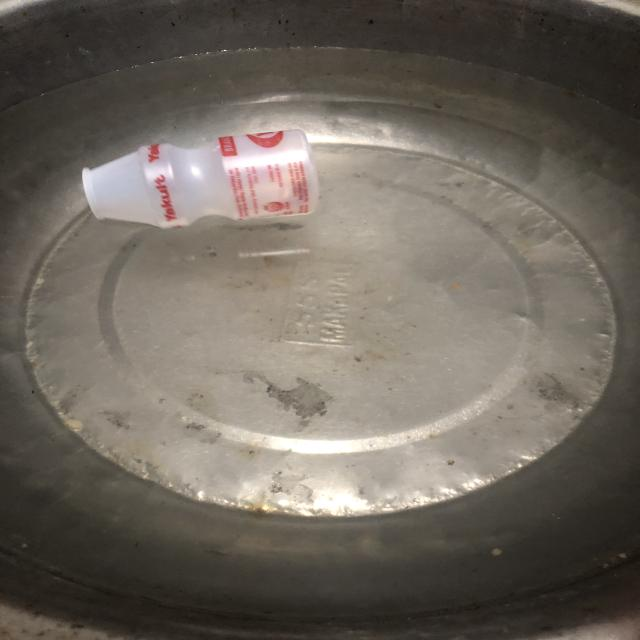Plastic Bottle: (82, 130, 319, 227)
